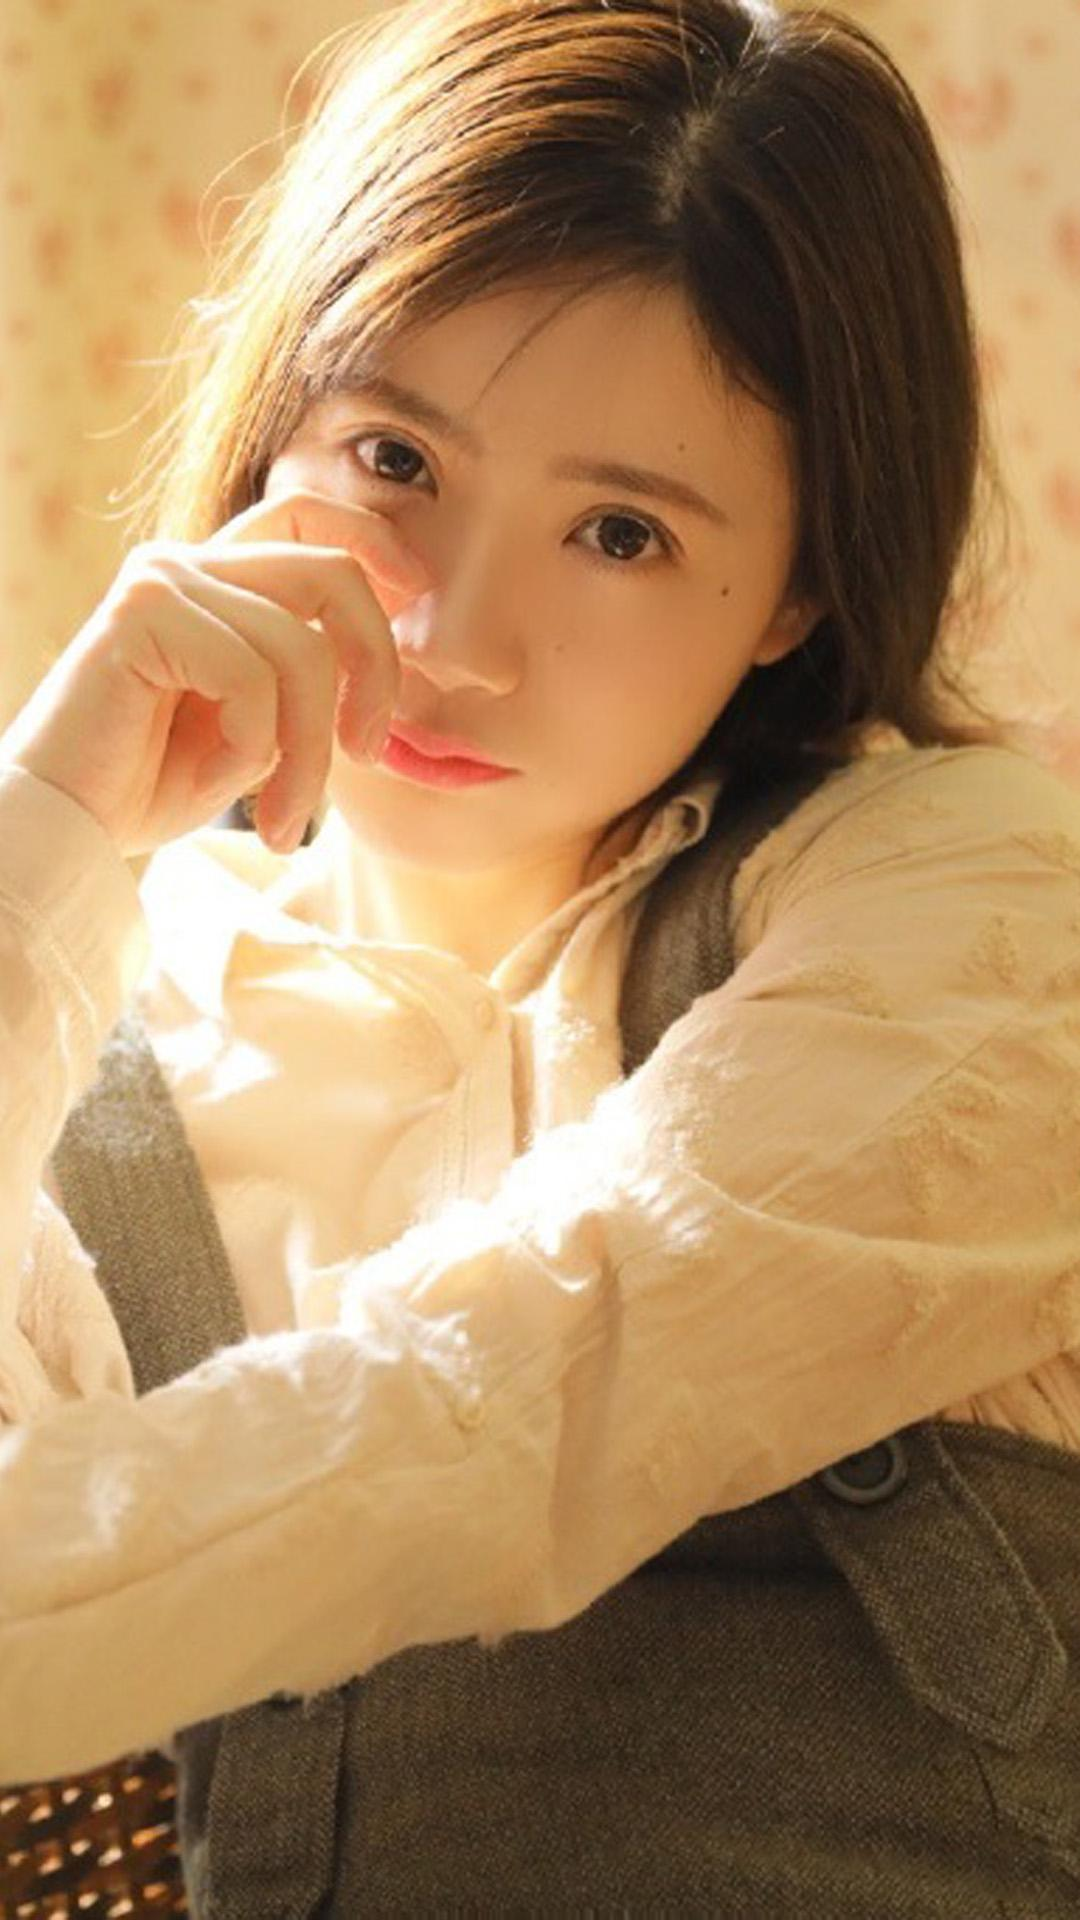person: (40, 55, 947, 1000)
